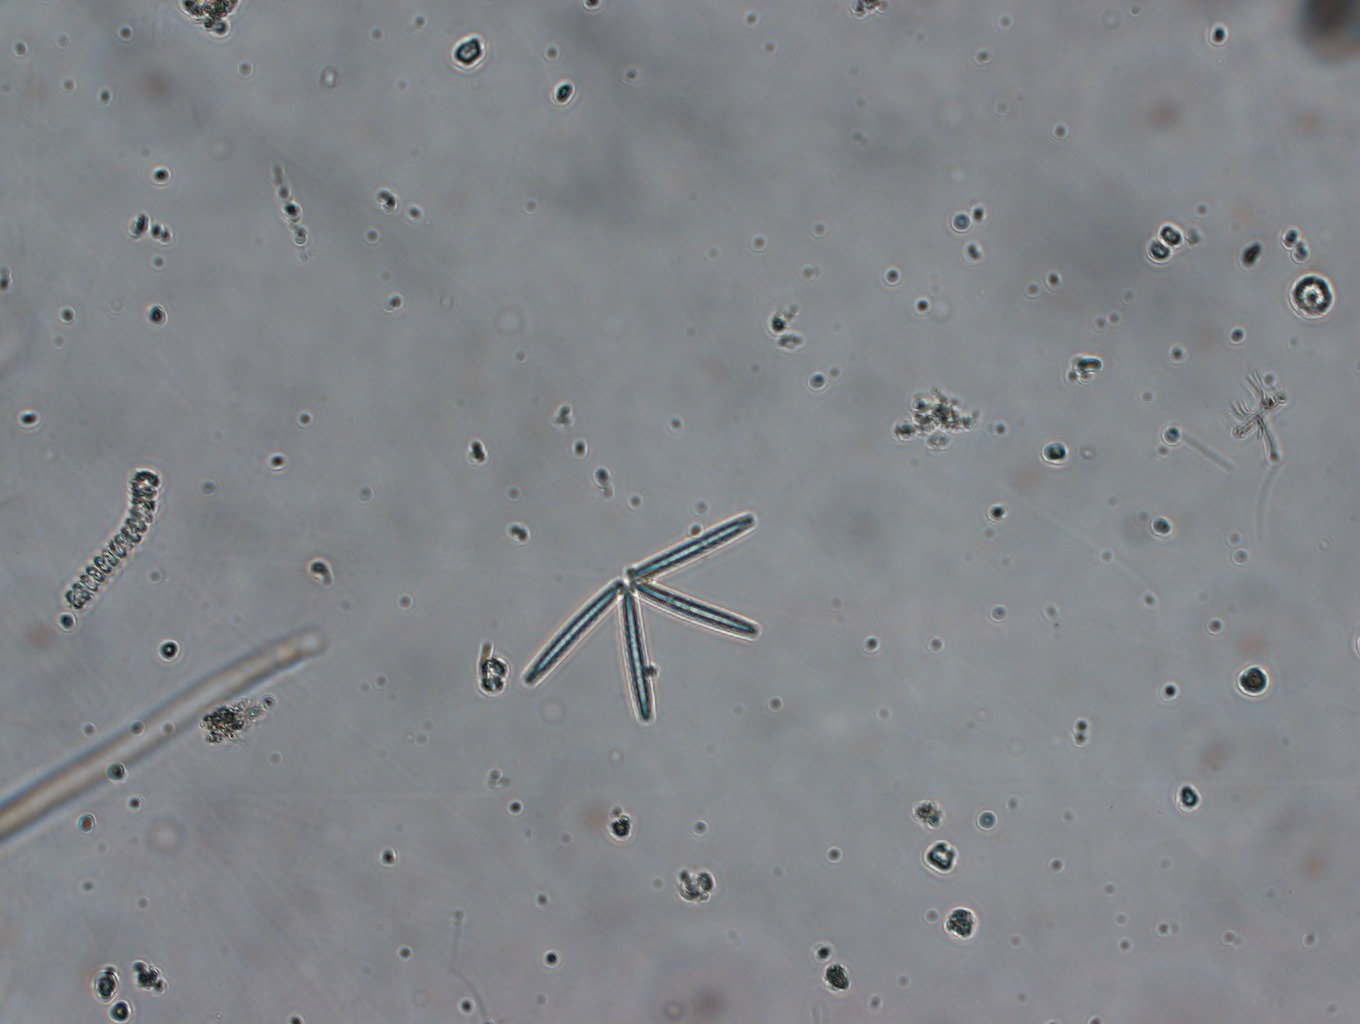skeletonema: (53, 463, 172, 615)
thalassionema nitzschioides: (519, 507, 769, 723)
